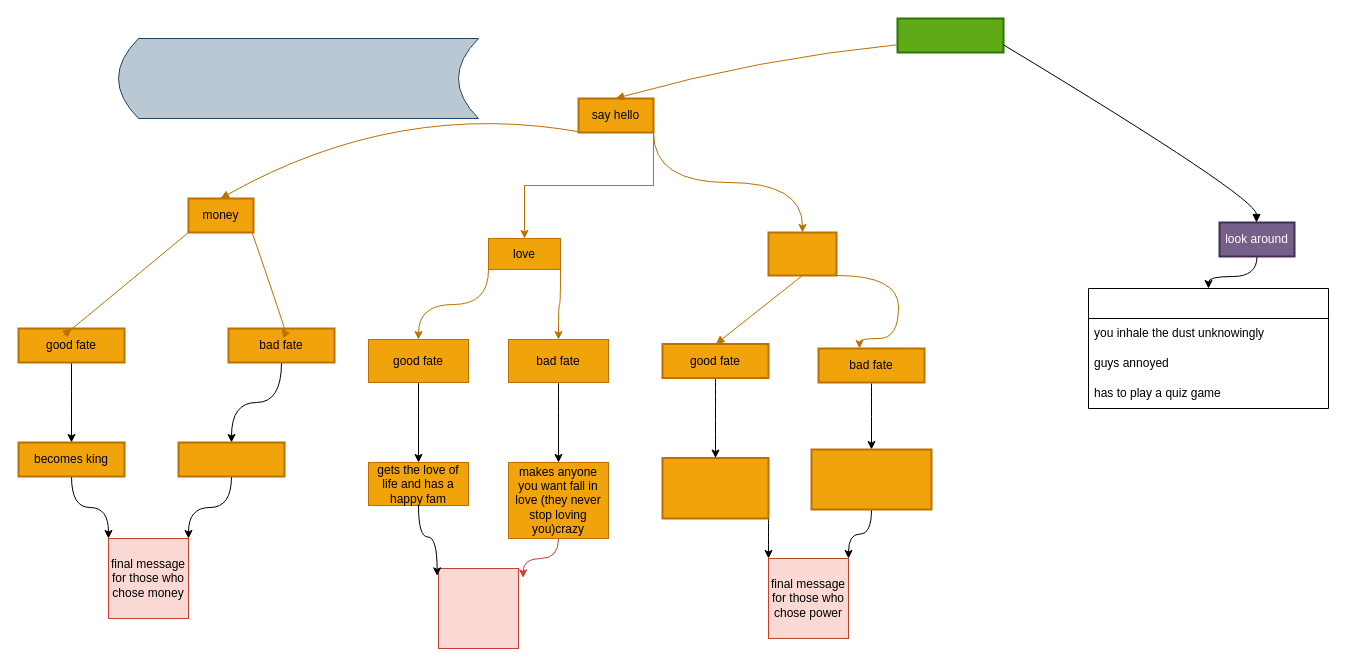
Image size: 1346x666. Some labels were removed from this diagram. Here are the shapes that lost their labels. From the top down, the box of each, then its label:
(896, 17, 1004, 53): beginning fantasy of story
(118, 38, 478, 118): drinks a potion, he gives good or bad based on answer
(767, 231, 837, 276): power
(1088, 288, 1328, 408): situation
(177, 441, 285, 477): lives as a beggar
(810, 448, 932, 510): becomes a failed mil gen
(661, 456, 769, 519): becomes a beloved military general
(438, 568, 518, 648): final message for those who chose love
